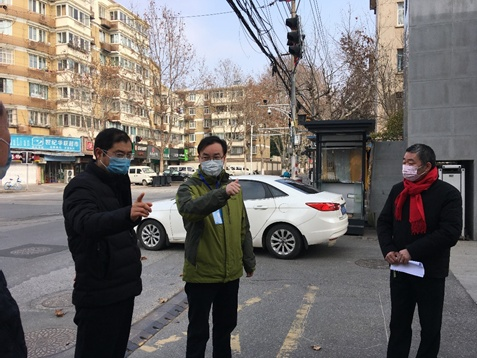correctlyWear: (93, 144, 134, 177), (400, 154, 431, 182), (196, 148, 225, 177)
